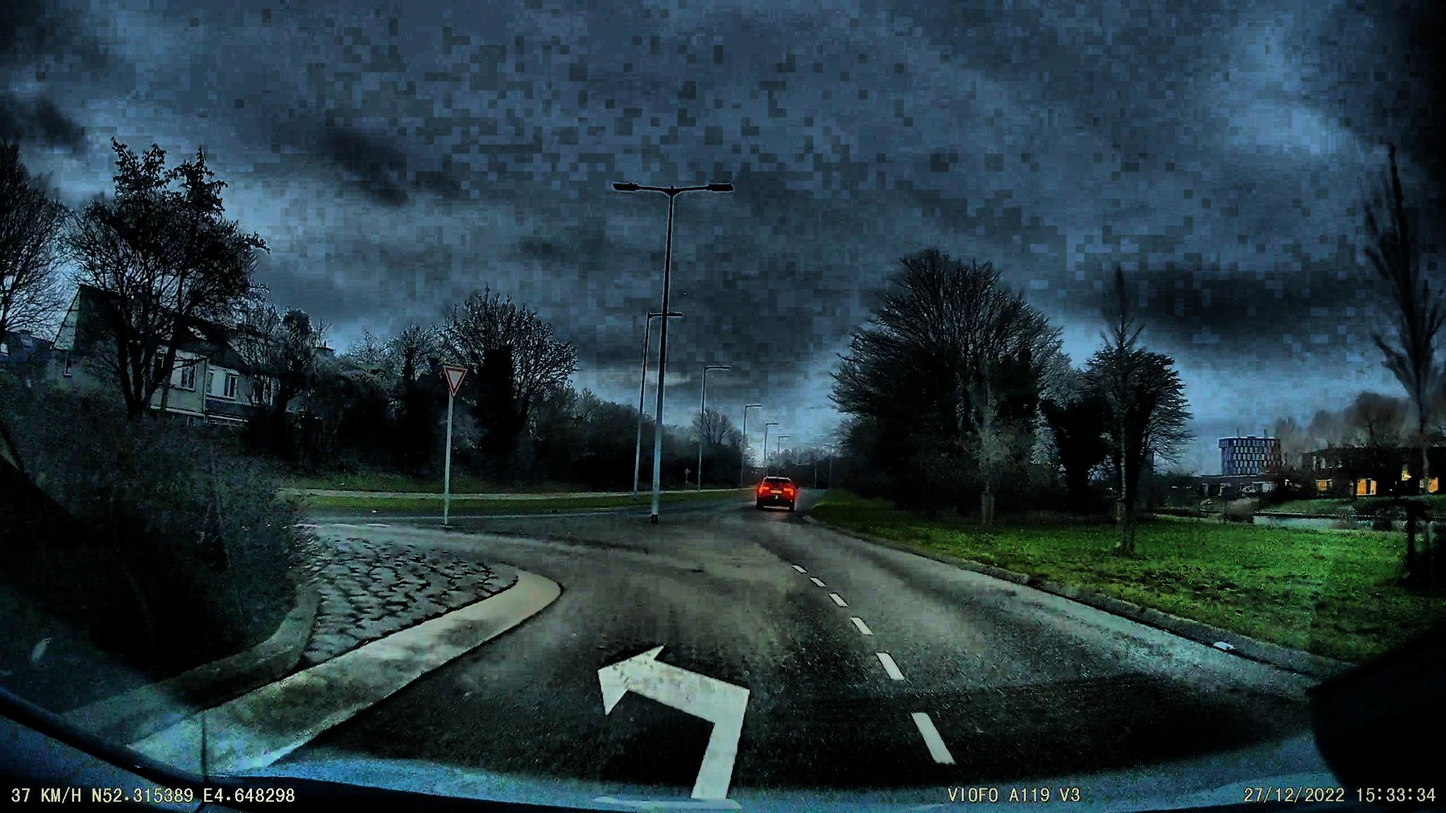Roads: (238, 509, 1344, 813)
